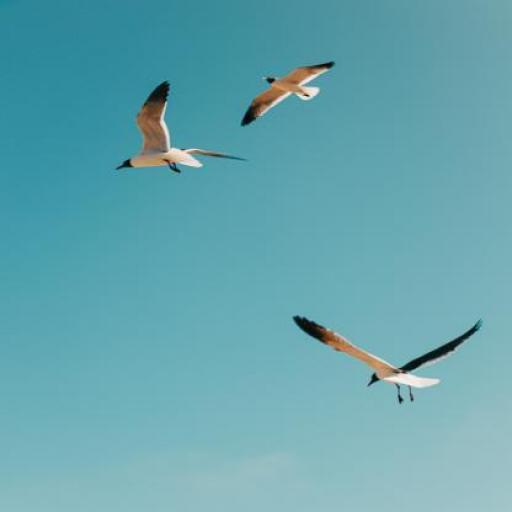bird: (292, 314, 483, 404), (114, 79, 244, 173), (242, 60, 334, 126)
